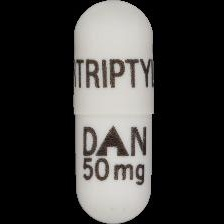60760-812: (0, 0, 224, 224)
